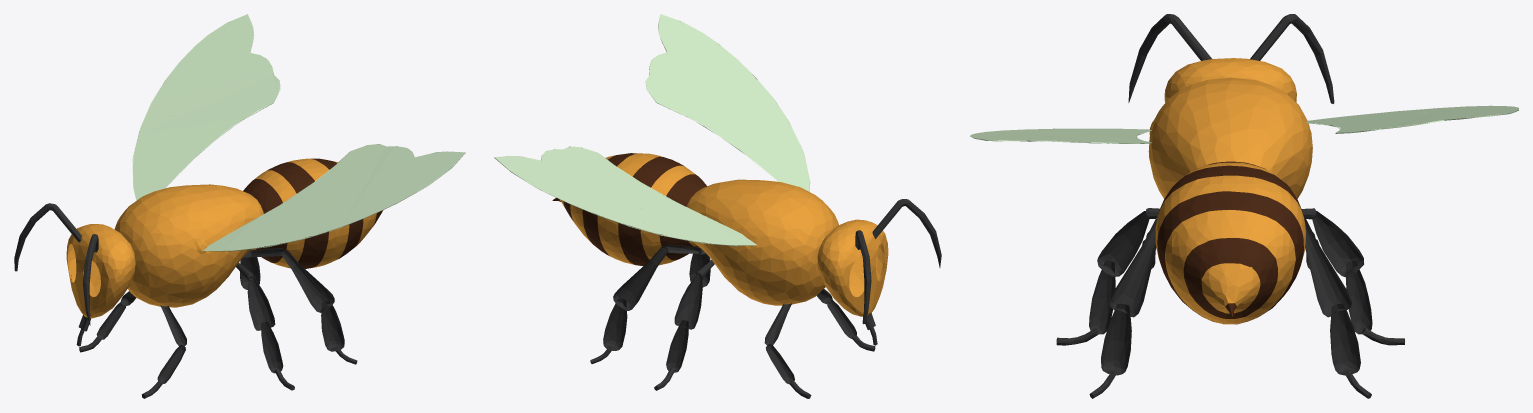
File: bee.fbx
3 views of the same model, side by side, from view 1: azimuth 30°, elevation 25°; view 2: azimuth 150°, elevation 25°; view 3: azimuth 270°, elevation 25° (orthographic). The views are drawn at different scales.
Parts seen in each view (by area): view 1: bee, wing0; view 2: bee, wing0; view 3: bee, wing0.
Boxes of the visible parts, x1,y1,x2,y2 form: bee: [14, 158, 382, 398]; wing0: [132, 14, 465, 251]; bee: [552, 153, 941, 398]; wing0: [494, 14, 810, 246]; bee: [1056, 14, 1404, 398]; wing0: [970, 105, 1518, 143].
Bounding box in the file's own units: 889 × 567 × 894.
